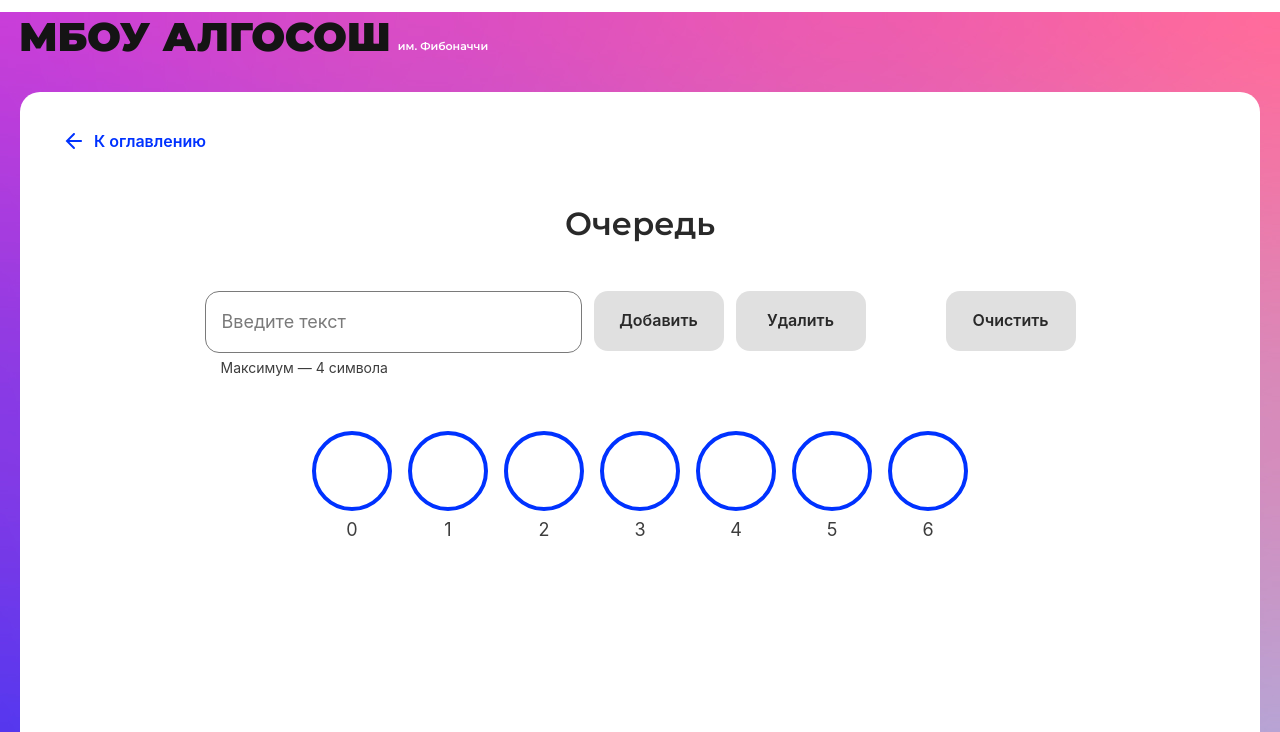
Scenario: Queue page › should visualize an element adding in a queue correctly
Type "1" into the field with test id "value-input".
click(394, 322); type("1")  # box [205,291,582,353]
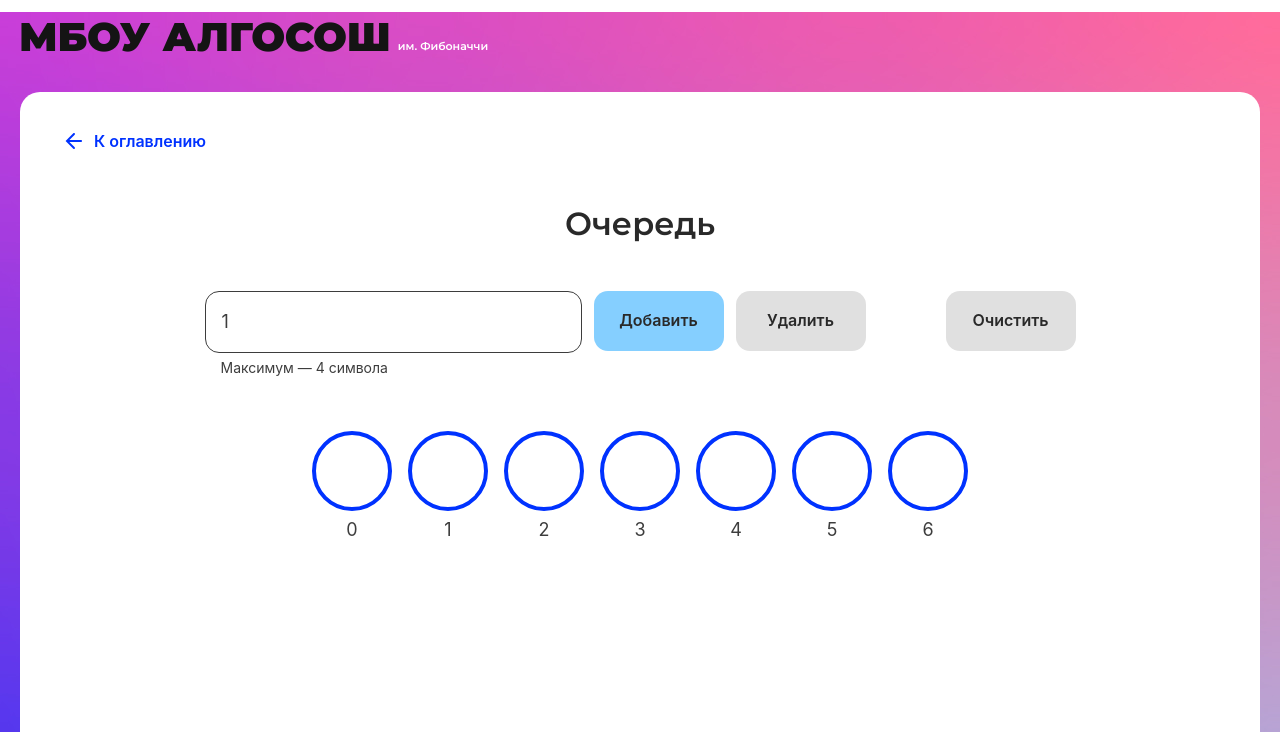
Click the button with test id "add-button".
click(659, 321)  # box [594,291,724,351]
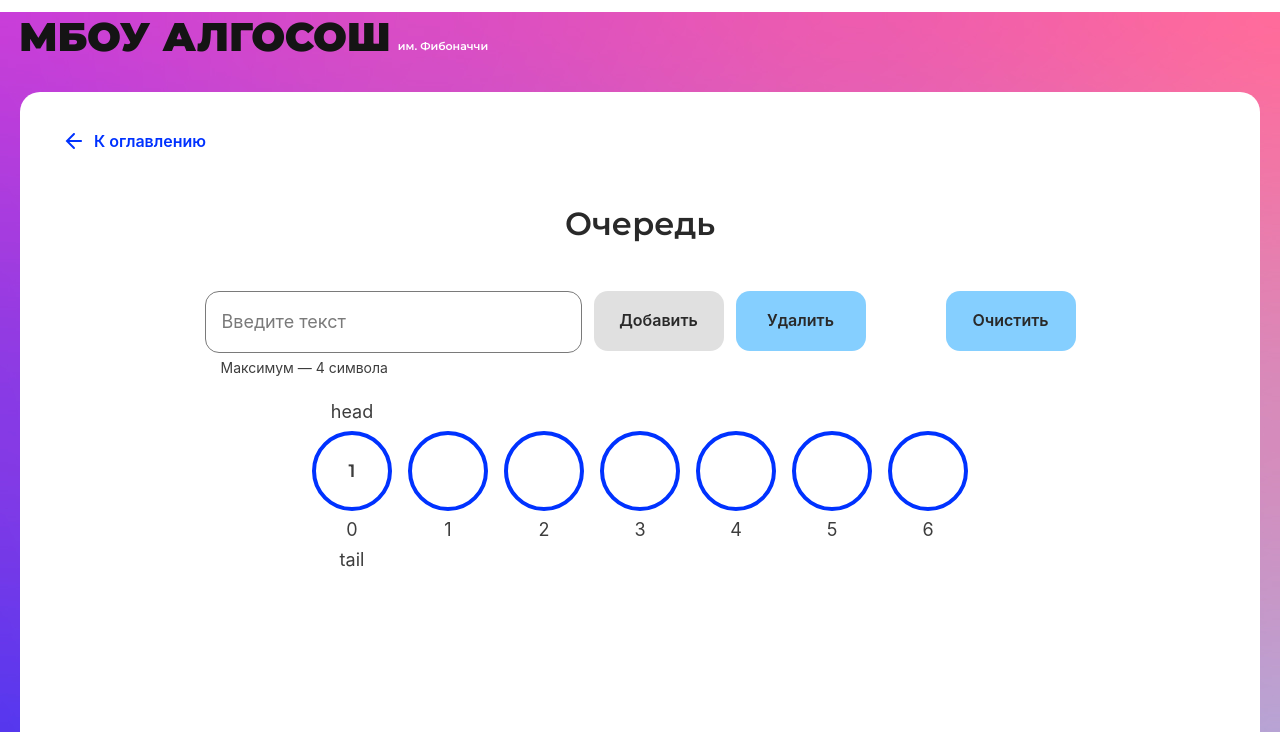
expect the text with test id "circle-core" reads "1": met, box [349,460,356,482]
expect the text with test id "head" reads "head": met, box [331,401,373,422]
expect the text with test id "tail" reads "tail": met, box [340,549,365,570]
Type "2" into the field with test id "value-input".
click(394, 322); type("2")  # box [205,291,582,353]
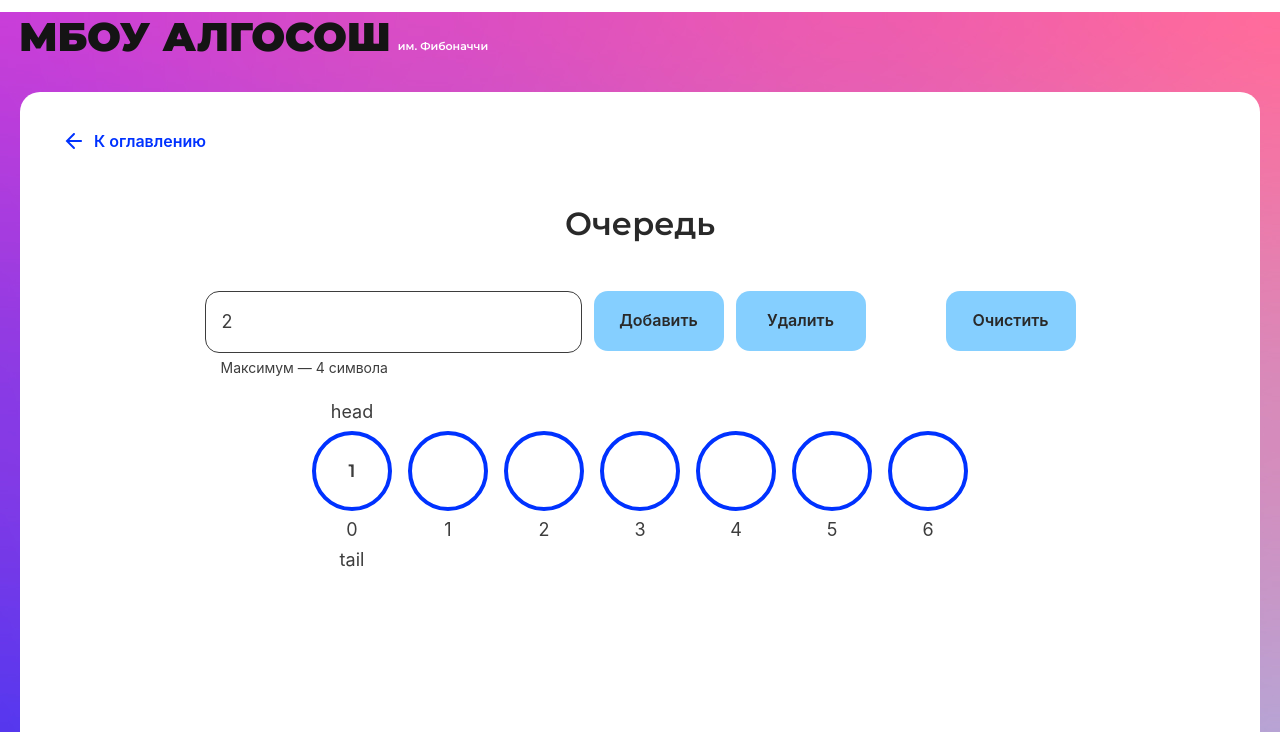
Click the button with test id "add-button".
click(659, 321)  # box [594,291,724,351]
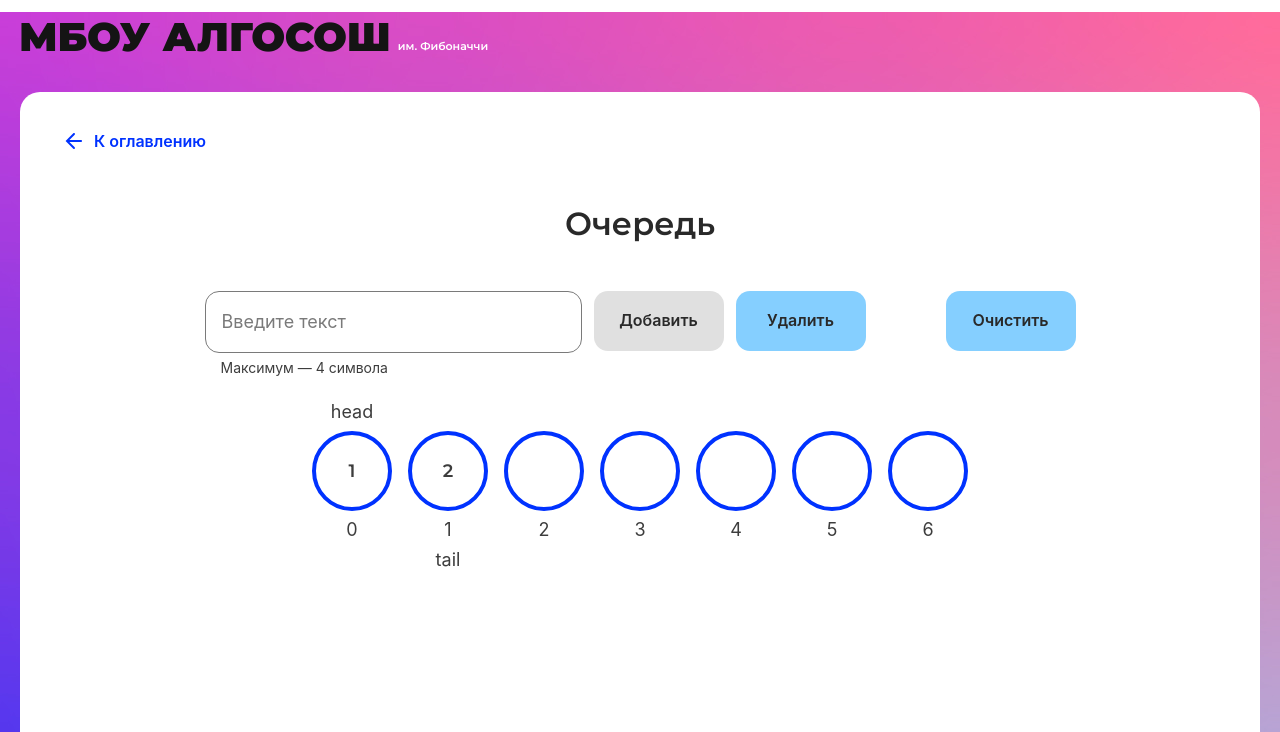
expect the text with test id "head" reads "head": met, box [331,401,373,422]
expect the text with test id "tail" reads "tail": met, box [436,549,461,570]
expect the text with test id "circle-core" reads "2": met, box [443,460,453,482]
